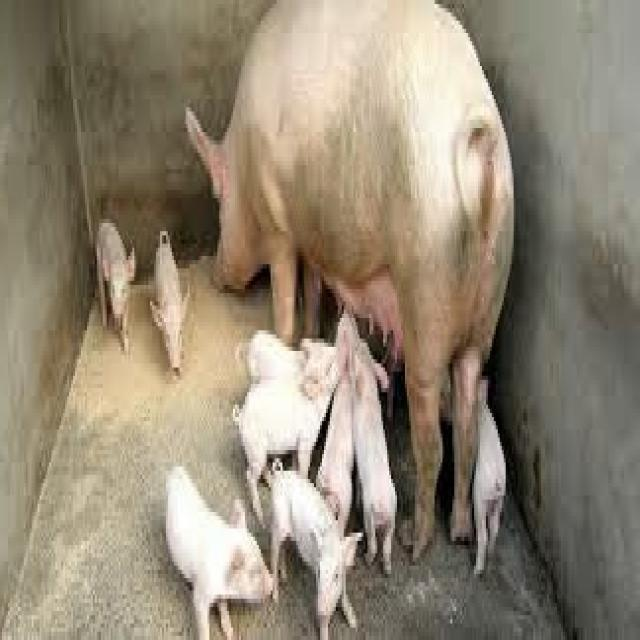pig: (188, 0, 514, 553), (235, 339, 340, 516), (168, 467, 273, 636), (273, 467, 360, 636), (356, 339, 397, 570), (474, 380, 506, 570), (318, 376, 354, 529), (152, 231, 190, 372), (97, 219, 136, 347)
